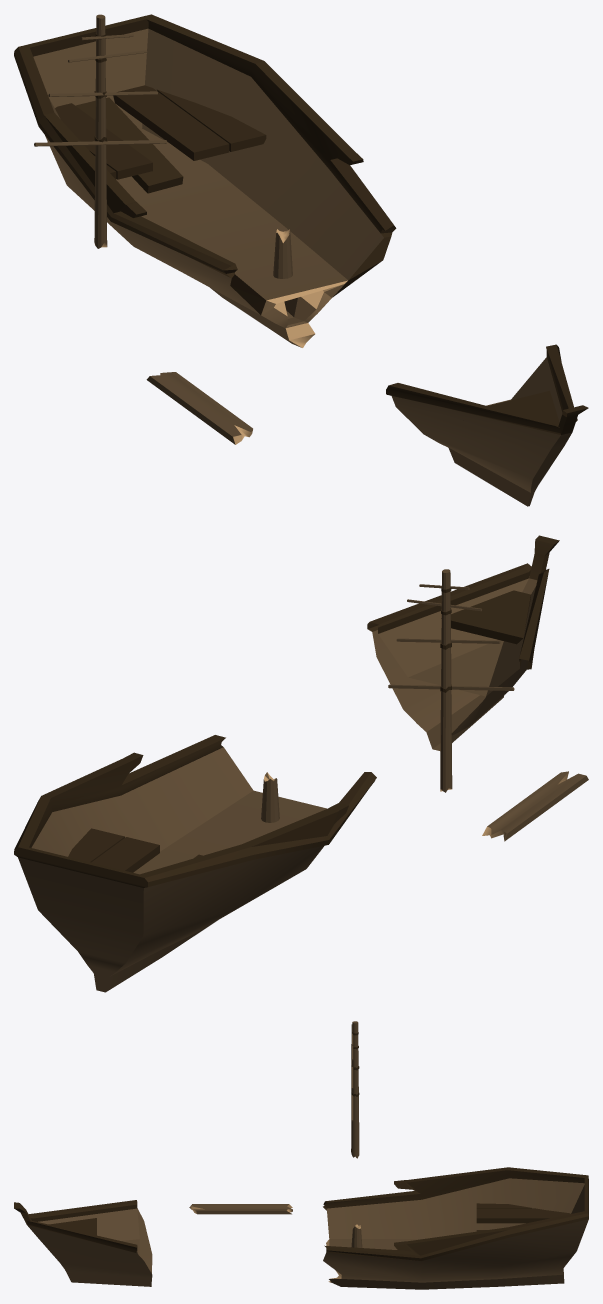
The model's file is Boat.fbx.
3 renders of one model, top to bottom at view 1: azimuth 30°, elevation 25°; view 2: azimuth 150°, elevation 25°; view 3: azimuth 270°, elevation 25°, orthographic. The views are drawn at different scales.
Visible parts, largest first — view 1: pCylinder7, polySurface9, pCylinder8, pCube9; view 2: pCylinder7, polySurface9, pCylinder8, pCube9; view 3: pCylinder7, polySurface9, pCylinder8, pCube9.
Boxes of the visible parts, x1=… form: pCylinder7: x1=14, y1=14, x2=396, y2=347; polySurface9: x1=386, y1=344, x2=588, y2=506; pCylinder8: x1=34, y1=14, x2=166, y2=248; pCube9: x1=146, y1=372, x2=252, y2=444; pCylinder7: x1=14, y1=735, x2=376, y2=992; polySurface9: x1=367, y1=535, x2=559, y2=750; pCylinder8: x1=388, y1=569, x2=514, y2=792; pCube9: x1=482, y1=771, x2=588, y2=841; pCylinder7: x1=323, y1=1167, x2=588, y2=1289; polySurface9: x1=14, y1=1200, x2=152, y2=1286; pCylinder8: x1=351, y1=1021, x2=359, y2=1158; pCube9: x1=189, y1=1204, x2=292, y2=1214.
Bounding box in the file's own units: 538 × 509 × 1242.
